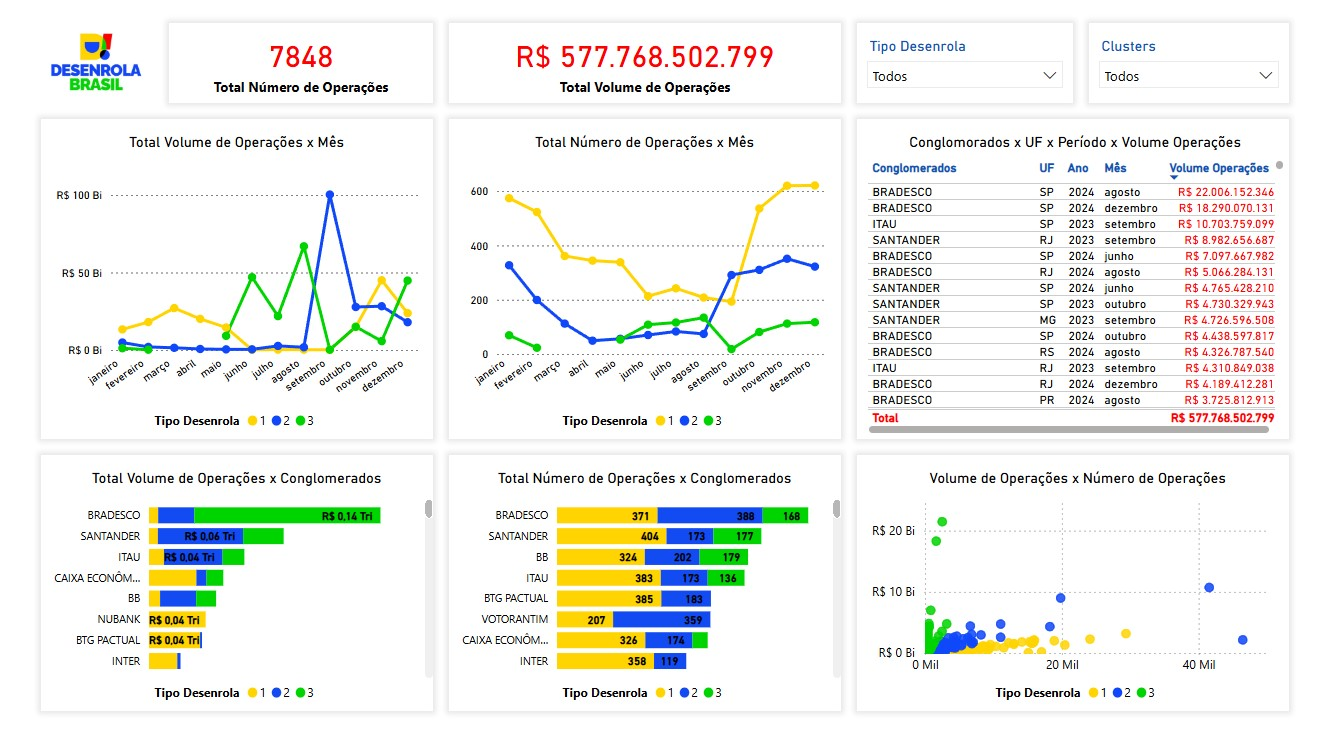

Layout of this report page (visuals, bound fields, positions):
{"tool":"powerbi","page":{"name":"Página 1","canvas":[1280,720],"ordinal":0},"visuals":[{"type":"image","box":[0,8,144,96],"z":0},{"type":"card","fields":{"Values":["CountNonNull(df_clusterizado.NUMERO_OPERACOES)"]},"box":[144,16,264,80],"z":1000},{"type":"card","fields":{"Values":["Sum(df_clusterizado.VOLUME_OPERACOES)"]},"box":[424,16,392,80],"z":2000},{"type":"lineChart","title":"Total Volume de Operações x Mês","fields":{"Category":["df_clusterizado.MES.Variation.Hierarquia de datas.Ano","df_clusterizado.MES.Variation.Hierarquia de datas.Trimestre","df_clusterizado.MES.Variation.Hierarquia de datas.Mês","df_clusterizado.MES.Variation.Hierarquia de datas.Dia"],"Y":["Sum(df_clusterizado.VOLUME_OPERACOES)"],"Series":["df_clusterizado.TIPO_DESENROLA"]},"box":[16,112,392,320],"z":3000},{"type":"lineChart","title":"Total Número de Operações x Mês","fields":{"Category":["df_clusterizado.MES.Variation.Hierarquia de datas.Ano","df_clusterizado.MES.Variation.Hierarquia de datas.Trimestre","df_clusterizado.MES.Variation.Hierarquia de datas.Mês","df_clusterizado.MES.Variation.Hierarquia de datas.Dia"],"Y":["CountNonNull(df_clusterizado.NUMERO_OPERACOES)"],"Series":["df_clusterizado.TIPO_DESENROLA"]},"box":[424,112,392,320],"z":4000},{"type":"barChart","title":"Total Volume de Operações x Conglomerados","fields":{"Category":["df_clusterizado.NOME_CONGLOMERADO_FINANCEIRO"],"Y":["Sum(df_clusterizado.VOLUME_OPERACOES)"],"Series":["df_clusterizado.TIPO_DESENROLA"]},"box":[16,448,392,256],"z":5000},{"type":"barChart","title":"Total Número de Operações x Conglomerados","fields":{"Category":["df_clusterizado.NOME_CONGLOMERADO_FINANCEIRO"],"Y":["CountNonNull(df_clusterizado.NUMERO_OPERACOES)"],"Series":["df_clusterizado.TIPO_DESENROLA"]},"box":[424,448,392,256],"z":6000},{"type":"scatterChart","title":"Volume de Operações x Número de Operações","fields":{"Series":["df_clusterizado.TIPO_DESENROLA"],"Category":["df_clusterizado.VOLUME_OPERACOES"],"Y":["Sum(df_clusterizado.VOLUME_OPERACOES)"],"X":["Sum(df_clusterizado.NUMERO_OPERACOES)"]},"box":[832,448,432,256],"z":7000},{"type":"slicer","fields":{"Values":["df_clusterizado.CLUSTER"]},"box":[1064,16,200,80],"z":8000},{"type":"slicer","fields":{"Values":["df_clusterizado.TIPO_DESENROLA"]},"box":[832,16,216,80],"z":9000},{"type":"tableEx","title":"Conglomorados x UF x Período x Volume Operações","fields":{"Values":["df_clusterizado.NOME_CONGLOMERADO_FINANCEIRO","df_clusterizado.UNIDADE_FEDERACAO","df_clusterizado.MES.Variation.Hierarquia de datas.Ano","df_clusterizado.MES.Variation.Hierarquia de datas.Mês","Sum(df_clusterizado.VOLUME_OPERACOES)"]},"box":[832,112,432,320],"z":10000}]}

Visuals, with their boxes in screenshot pixels (x1, y1, x2, y2), scaled from the page's 1280x720 canvas onto the 1323x730 screenshot:
image: box=[0, 8, 149, 105]
card - CountNonNull(df_clusterizado.NUMERO_OPERACOES): box=[149, 16, 422, 97]
card - Sum(df_clusterizado.VOLUME_OPERACOES): box=[438, 16, 843, 97]
"Total Volume de Operações x Mês" lineChart: box=[17, 114, 422, 438]
"Total Número de Operações x Mês" lineChart: box=[438, 114, 843, 438]
"Total Volume de Operações x Conglomerados" barChart: box=[17, 454, 422, 714]
"Total Número de Operações x Conglomerados" barChart: box=[438, 454, 843, 714]
"Volume de Operações x Número de Operações" scatterChart: box=[860, 454, 1306, 714]
slicer - df_clusterizado.CLUSTER: box=[1100, 16, 1306, 97]
slicer - df_clusterizado.TIPO_DESENROLA: box=[860, 16, 1083, 97]
"Conglomorados x UF x Período x Volume Operações" tableEx: box=[860, 114, 1306, 438]
